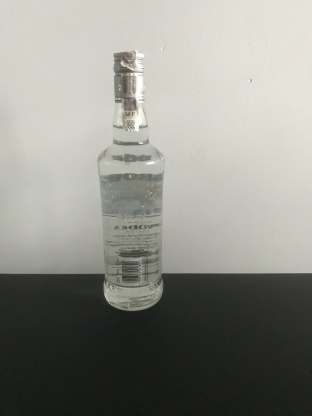nakretka: (111, 48, 146, 103)
